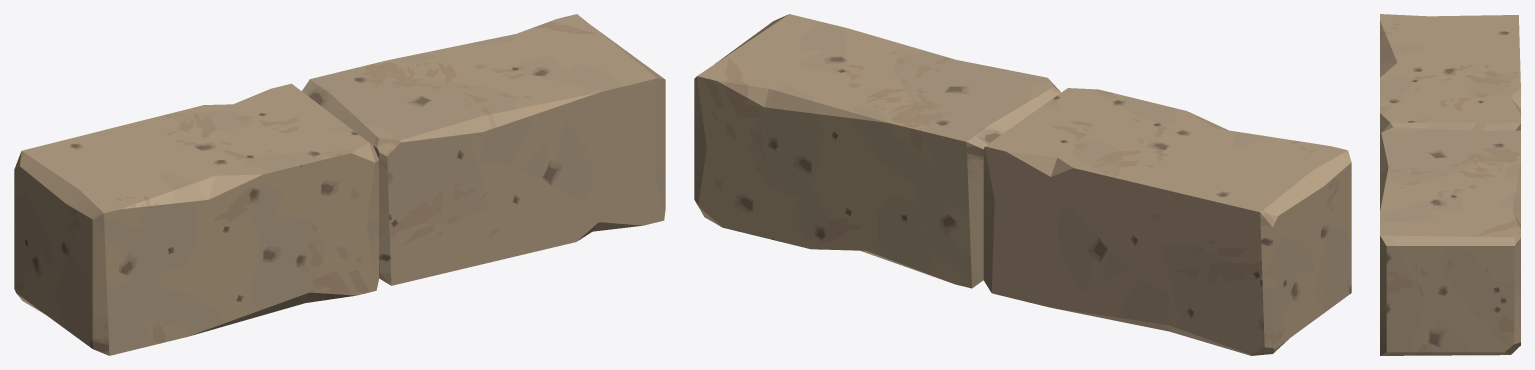
File: SM_Bld_Trim_Temple_Ground_01.fbx
The picture shows the model from 3 angles, left to right: view 1: azimuth 30°, elevation 25°; view 2: azimuth 150°, elevation 25°; view 3: azimuth 270°, elevation 25°; orthographic projection. The views are drawn at different scales.
Parts seen in each view (by area): view 1: SM_Bld_Trim_Temple_Ground_01; view 2: SM_Bld_Trim_Temple_Ground_01; view 3: SM_Bld_Trim_Temple_Ground_01.
Boxes of the visible parts, bbox=[...] form: SM_Bld_Trim_Temple_Ground_01: bbox=[14, 14, 665, 355]; SM_Bld_Trim_Temple_Ground_01: bbox=[694, 14, 1351, 355]; SM_Bld_Trim_Temple_Ground_01: bbox=[1380, 14, 1520, 355].
Size of the model in its own units: 500 by 120 by 130.
